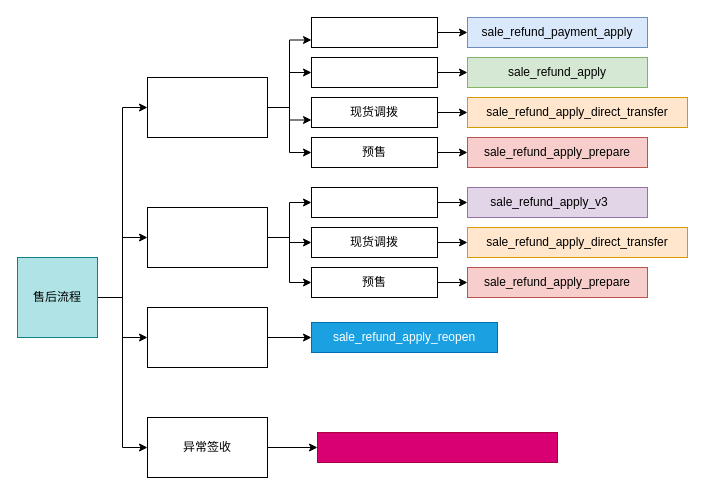
The diagram is 705 pixels wide and 495 high, and some of its shapes have lost their labels. Here are the shapes that lost their labels. From the top down, the centre of each, then its label:
the point at 374,32: 现货非调拨账期支付
the point at 374,72: 现货非调拨非账期支付
the point at 207,107: 仅退款
the point at 374,202: 现货非调拨
the point at 207,237: 退货退款
the point at 207,337: 冲单重开
the point at 437,447: sale_refund_abnormal_v2
